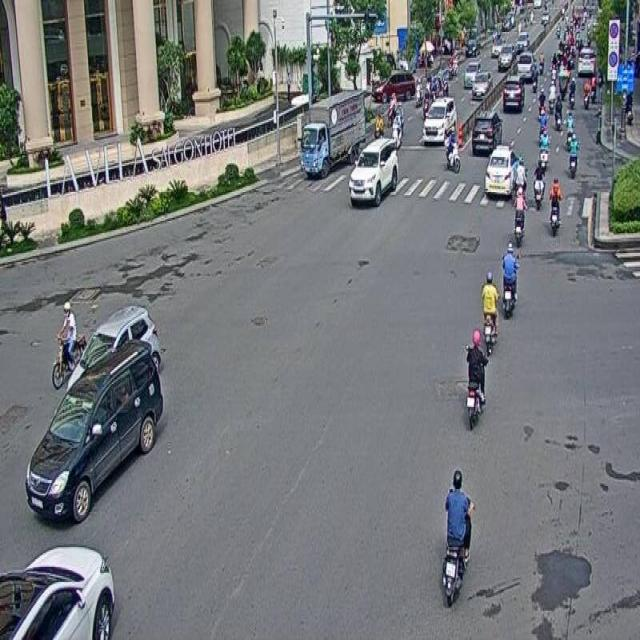car: (25, 343, 161, 518), (348, 136, 398, 207)
motorcycle: (444, 468, 472, 602), (462, 326, 488, 425), (498, 239, 520, 322), (479, 270, 499, 358), (513, 183, 525, 247)
truck: (298, 88, 366, 178)
